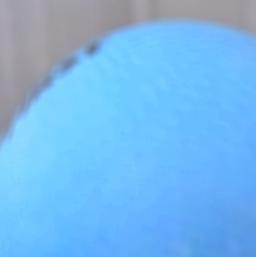algae: (0, 10, 256, 257)
